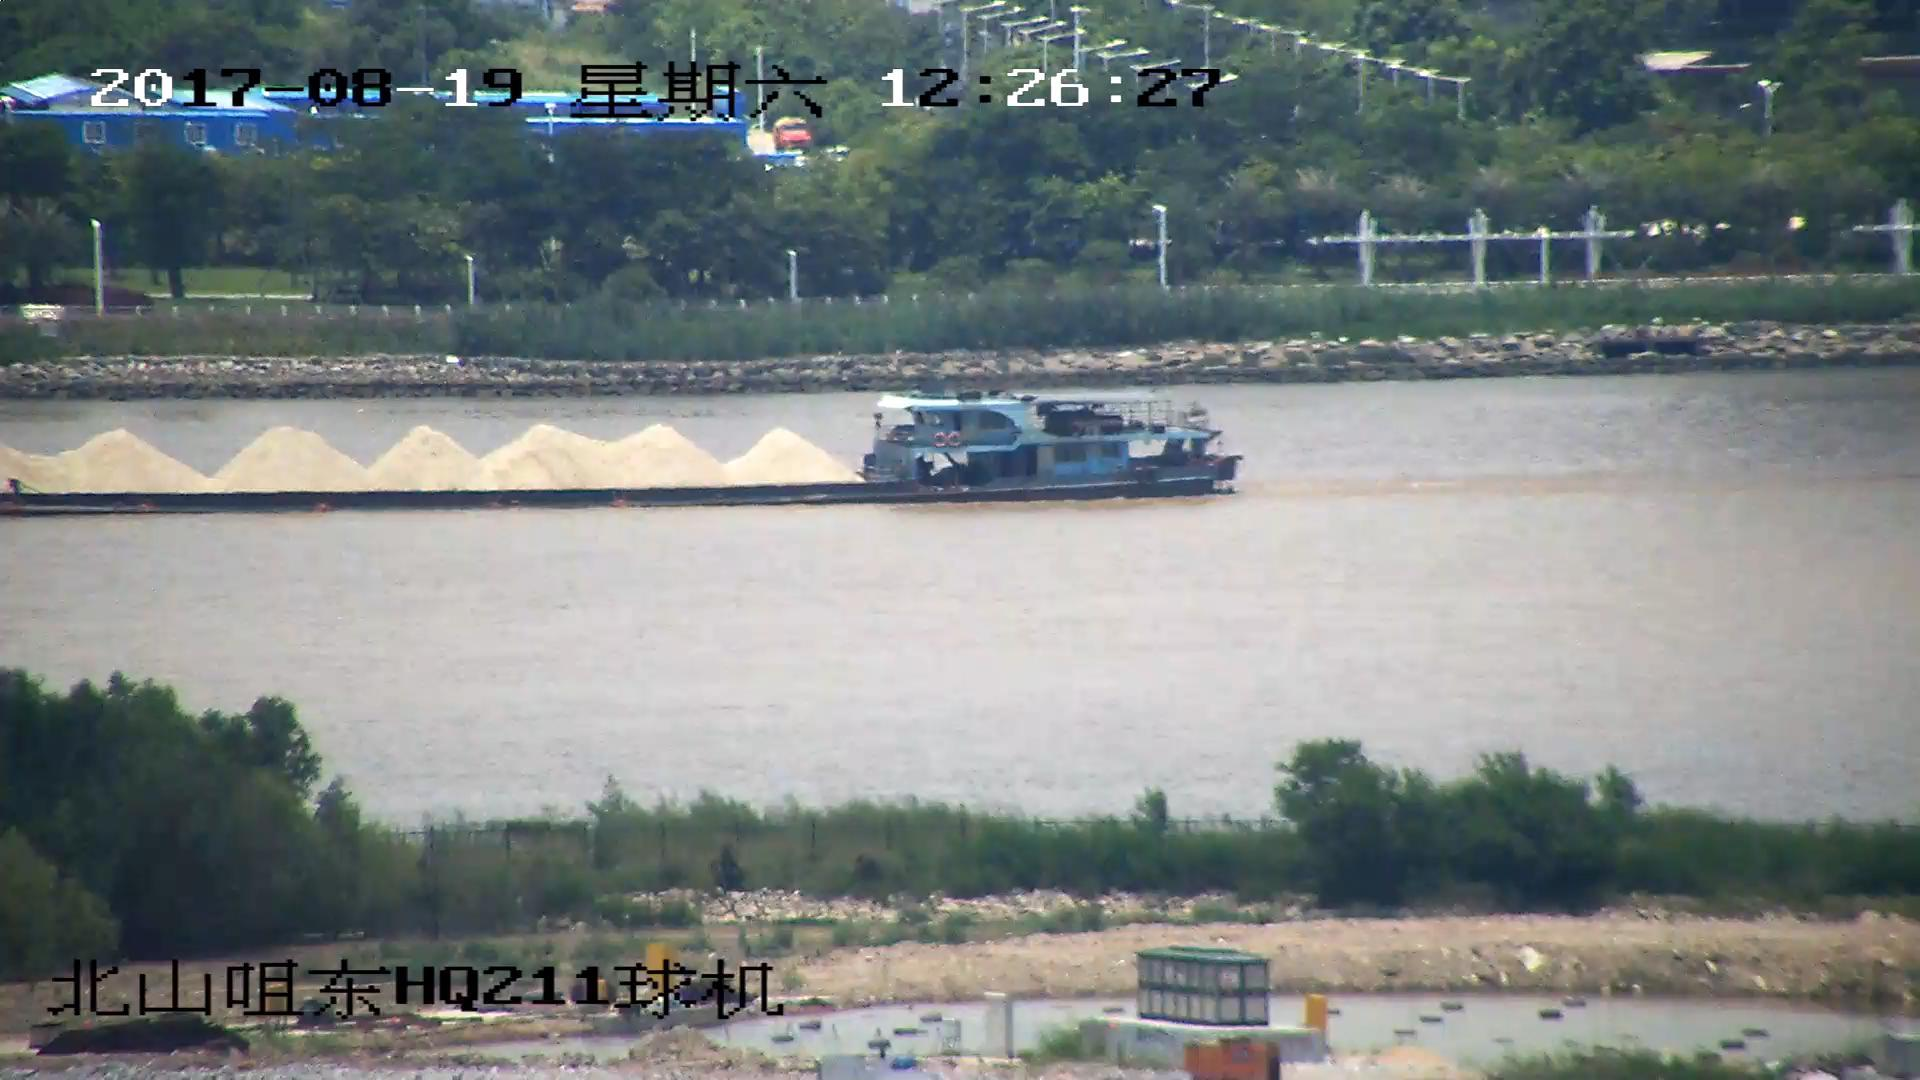Ship: (3, 382, 1244, 513)
